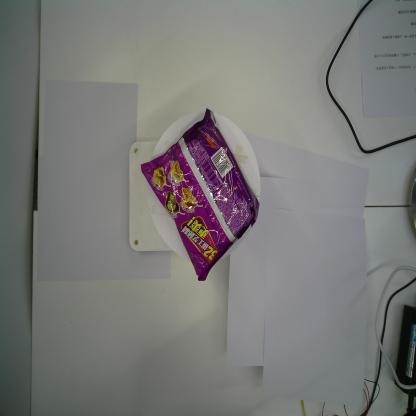Instant Noodles: (140, 106, 260, 283)
